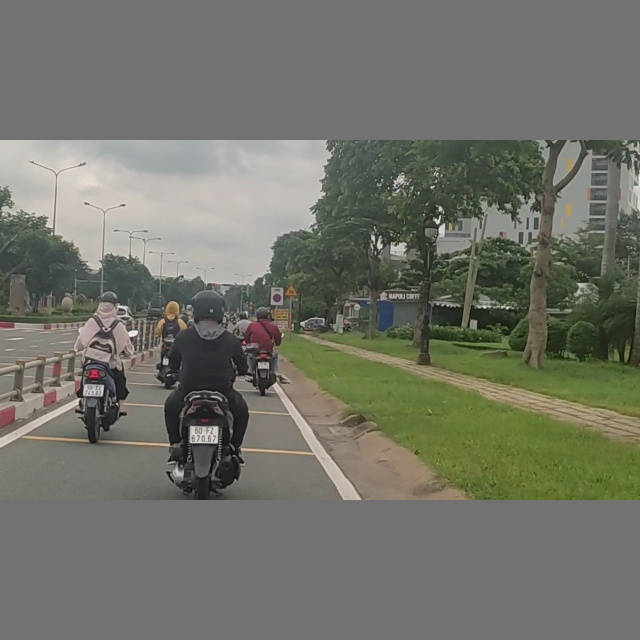P.130: (273, 294, 282, 303)
W.225: (284, 284, 298, 296)
